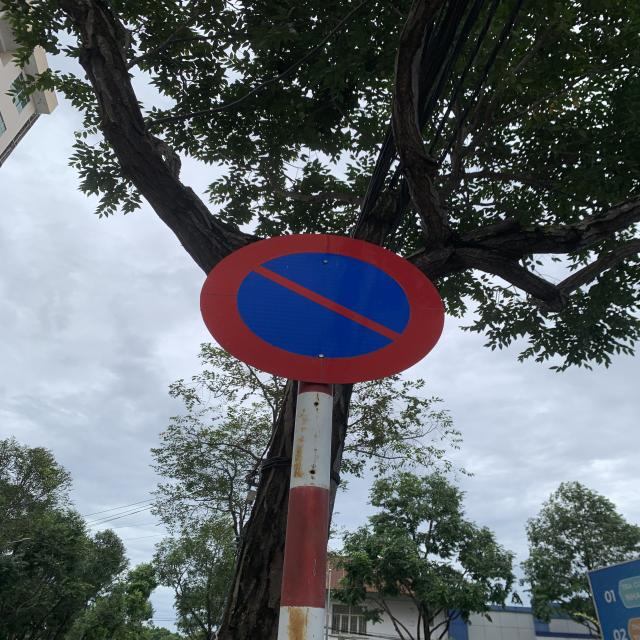Cam_Dau_Xe: (195, 232, 448, 383)
